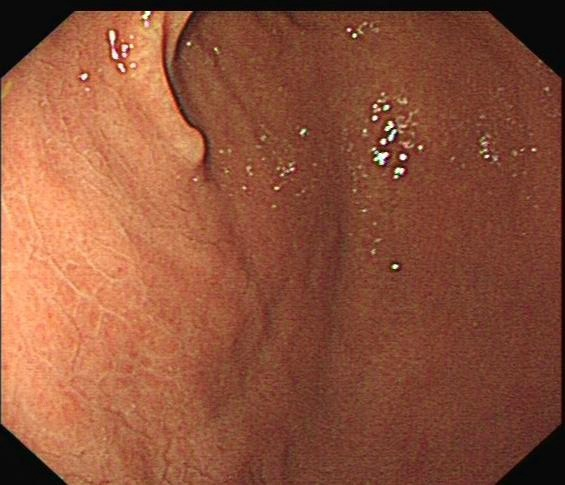Polyp: (116, 11, 226, 188)
